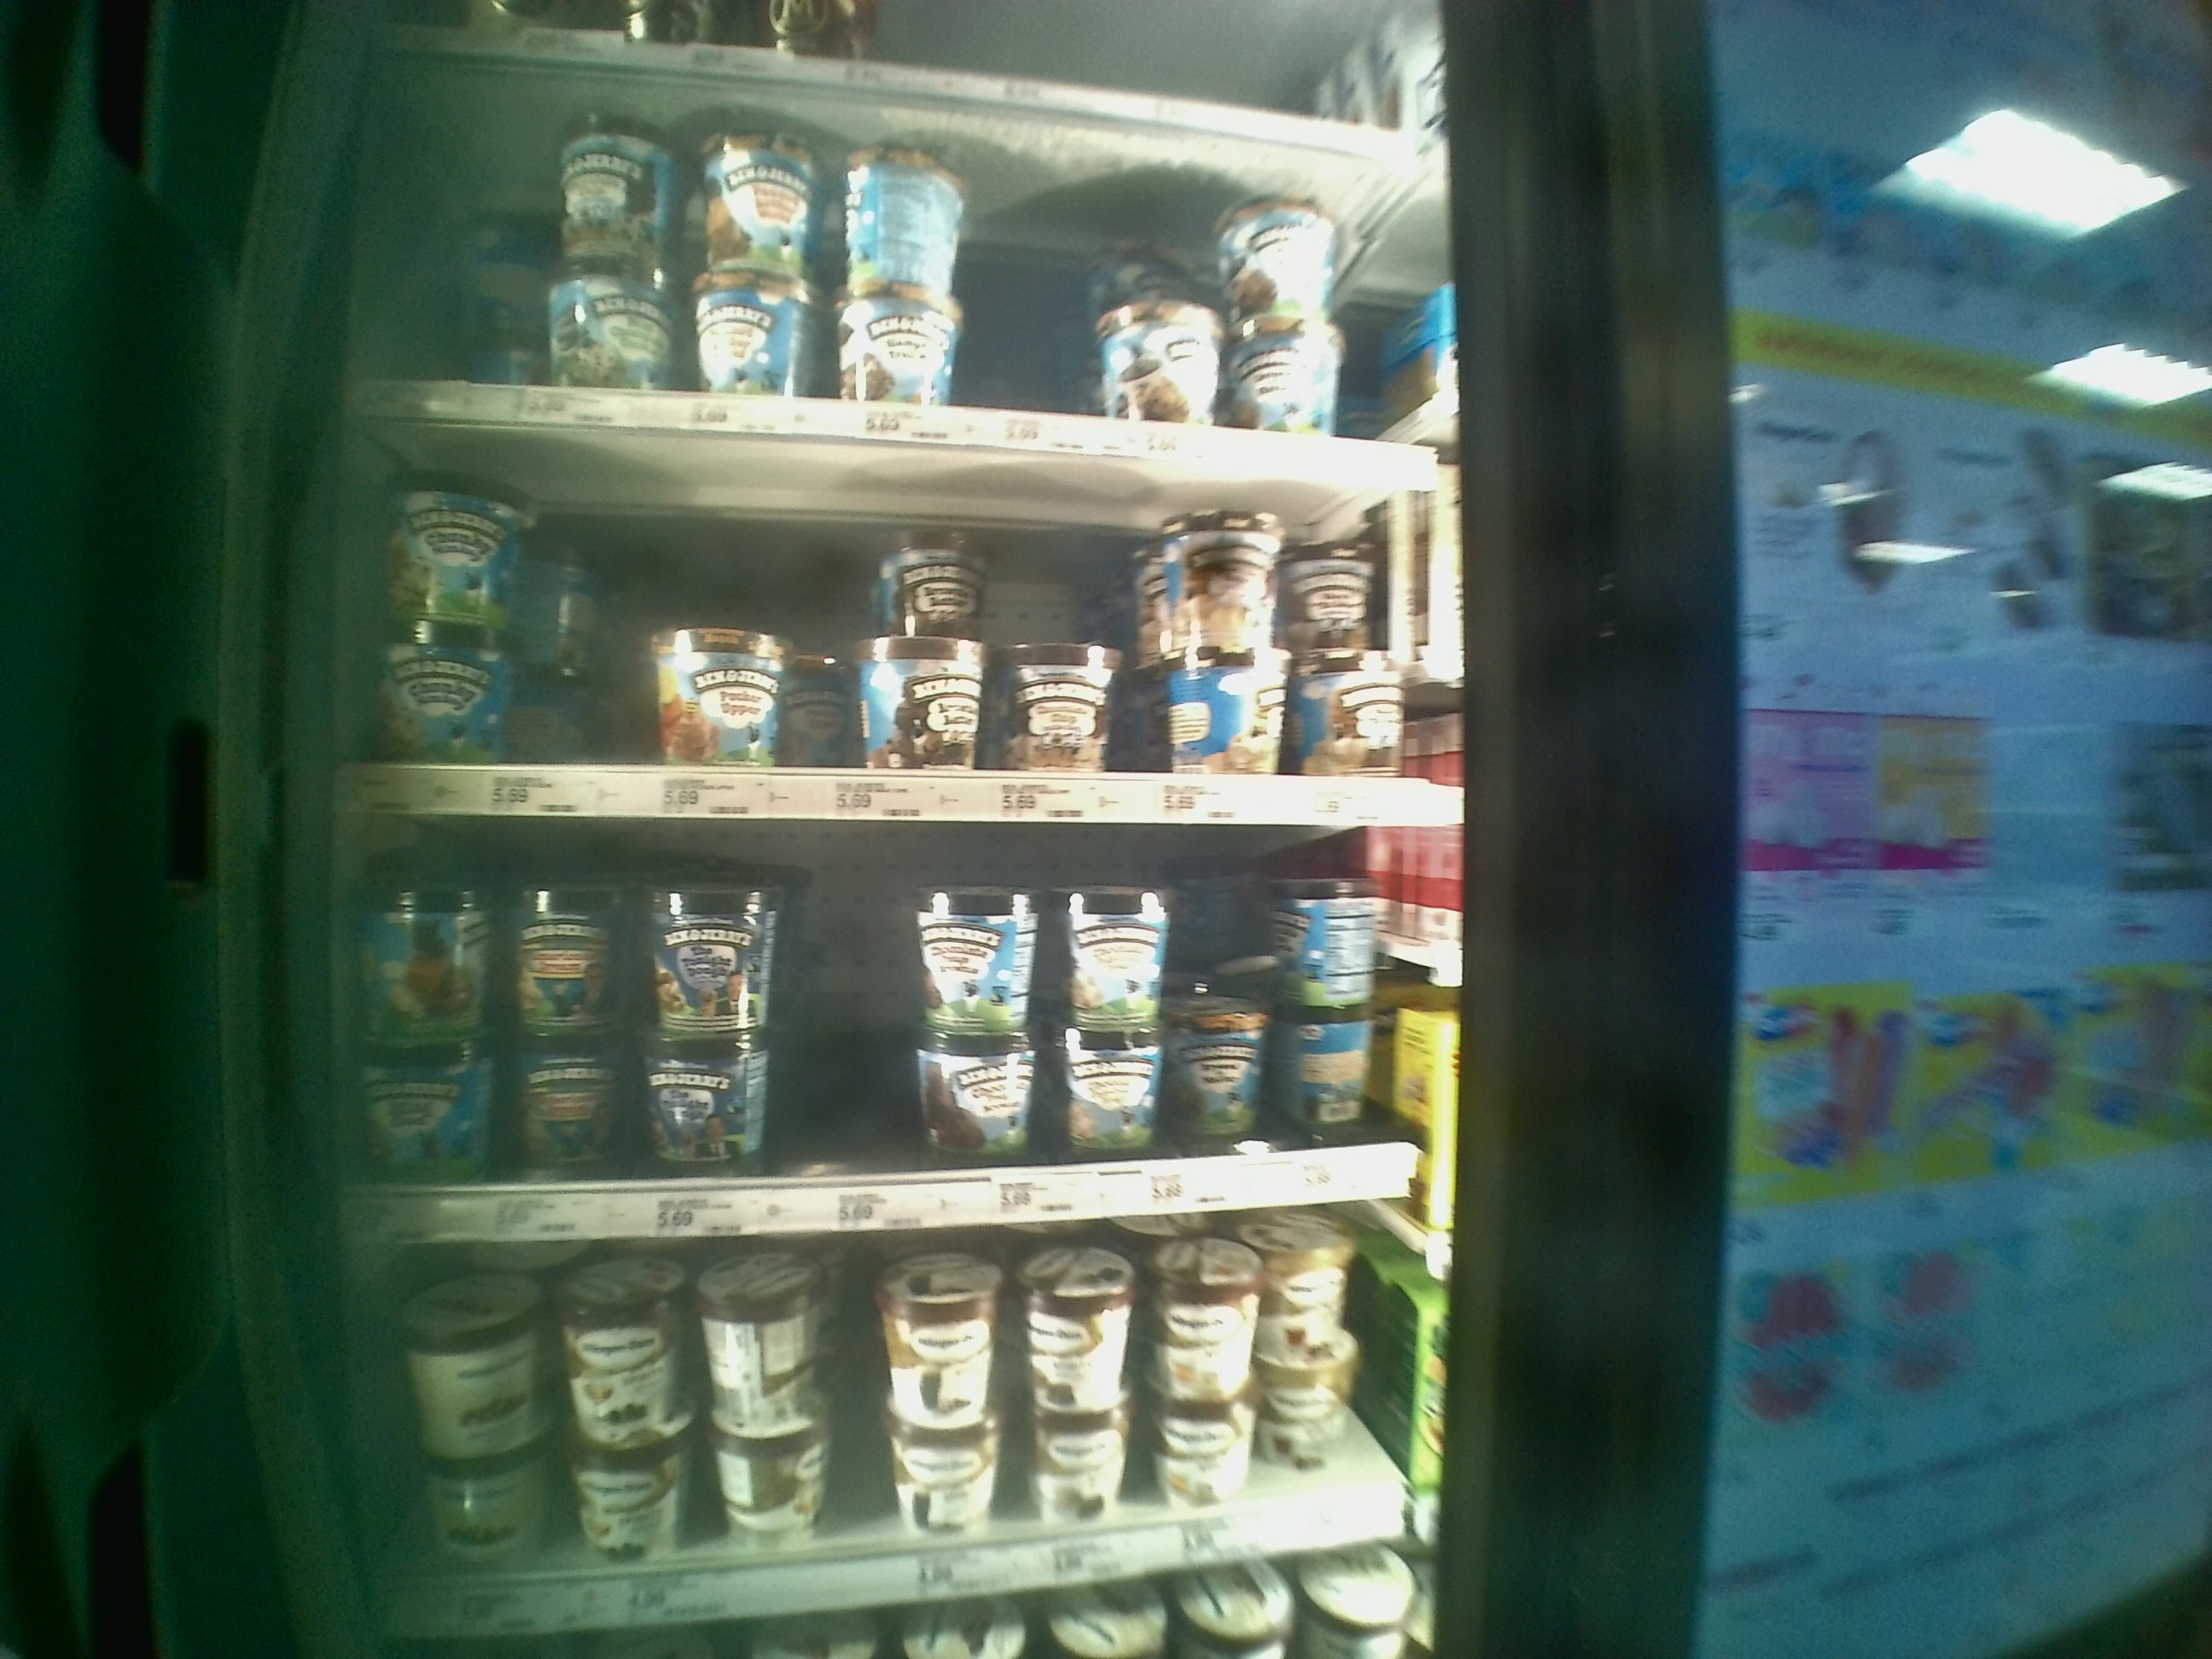shelf: (359, 1194, 1468, 1650), (343, 31, 1465, 450), (359, 824, 1447, 1241), (355, 420, 1456, 823)
